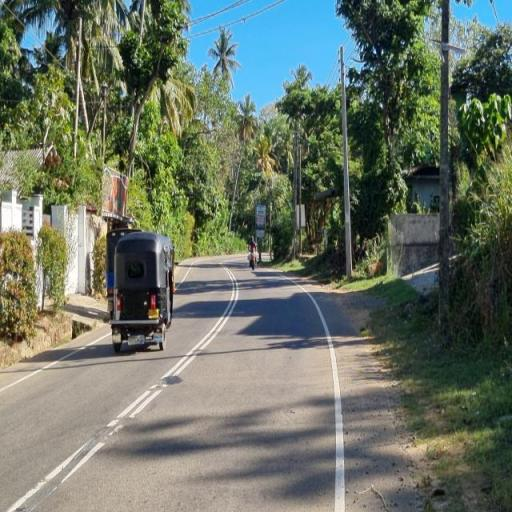double_white_line: (108, 268, 238, 434)
